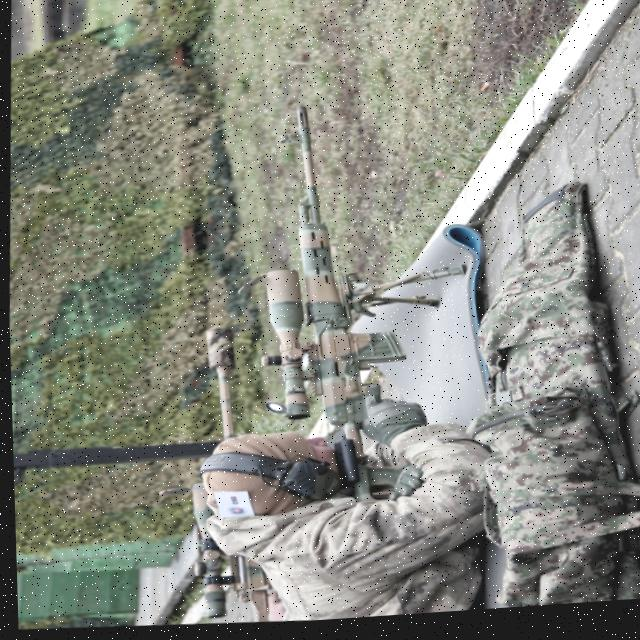firearm: (220, 95, 475, 515), (180, 325, 278, 629)
